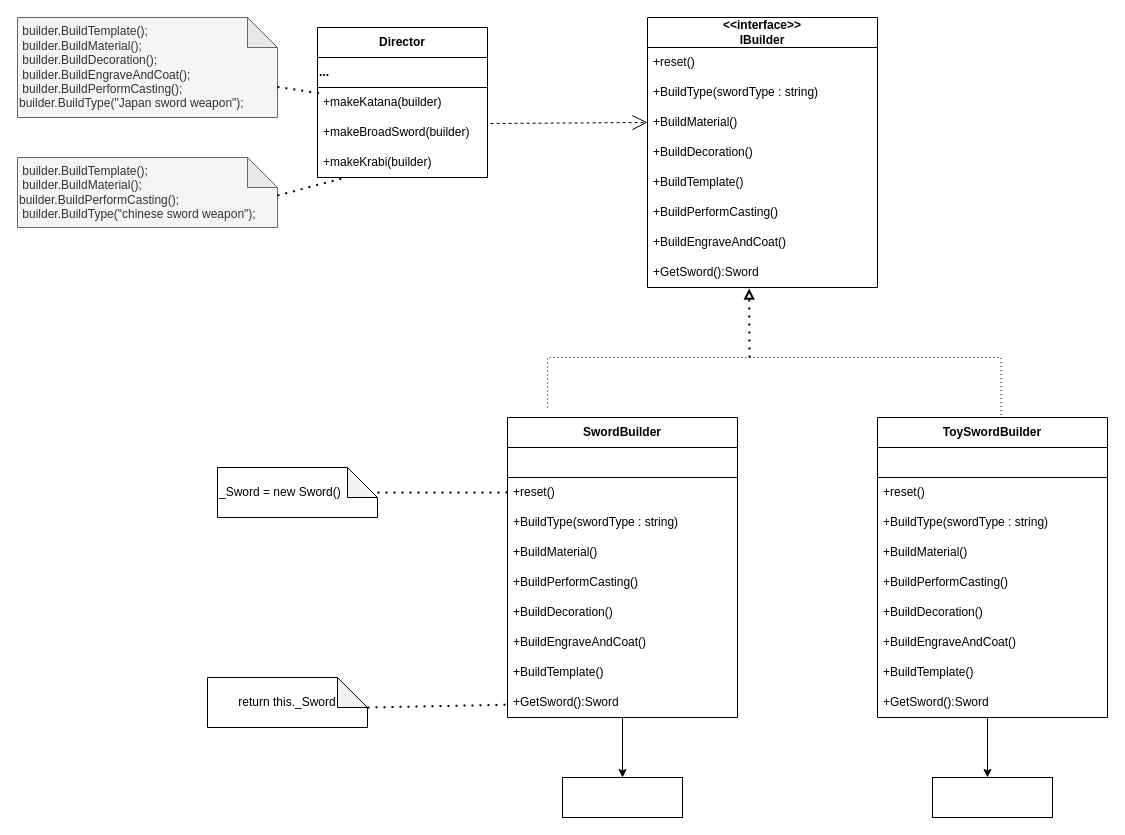
Image size: 1125x835. Some labels were removed from this diagram. Here are the shapes that lost their labels. From the top down, the centre of each, then its label:
At point 622,462: "- _Sword:Sword".
At point 992,462: "- _Toy: Sword".
At point 622,797: "Sword".
At point 992,797: "Toy".
